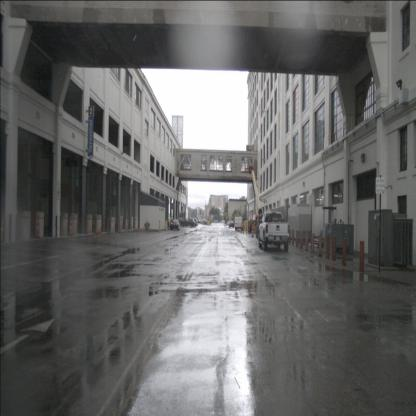human-pedestrian-adult: (168, 216, 171, 230)
movable_object-trafficcone: (0, 213, 6, 243), (35, 210, 40, 238), (69, 214, 73, 236), (106, 215, 110, 232), (85, 212, 88, 234), (120, 216, 123, 231), (248, 222, 251, 234), (251, 225, 254, 237), (245, 222, 248, 234), (126, 217, 128, 230)
vehicle-car: (180, 218, 194, 228), (235, 216, 244, 231), (170, 219, 180, 231), (187, 218, 198, 228), (229, 221, 234, 228)
vehicle-truck: (258, 211, 290, 251)
